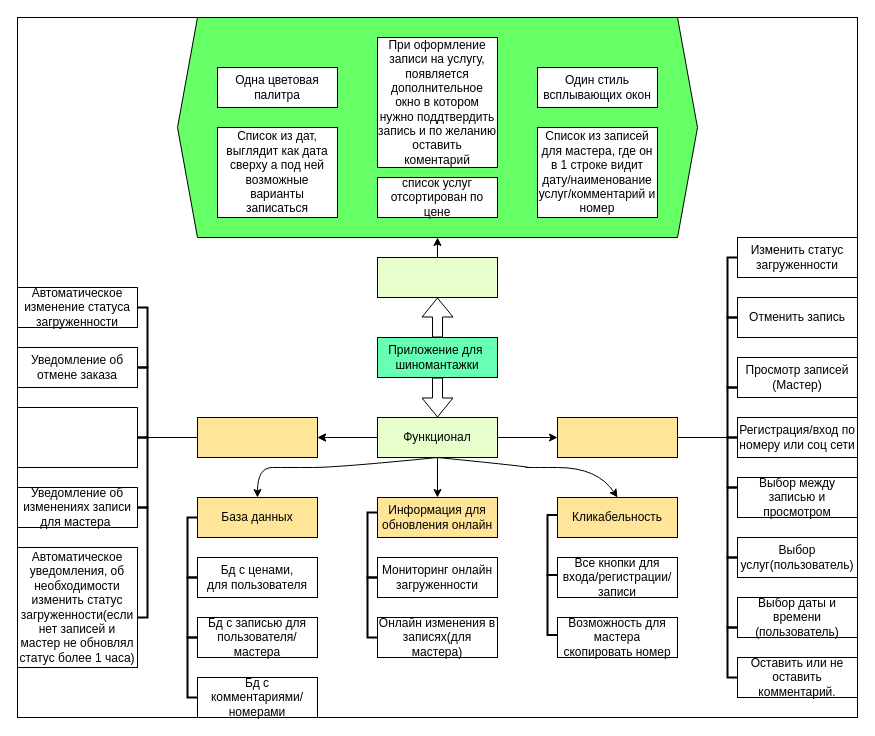
This 875x736 diagram has some shape labels left out. Here are the shapes that lost their labels. From the top down, the centre of each, then its label:
(x=437, y=277): интерфейс
(x=77, y=437): Изменение цветовой маркировки для мастер(выполнено/отменено/пусто)
(x=257, y=437): Автоматизация
(x=617, y=437): Функции
